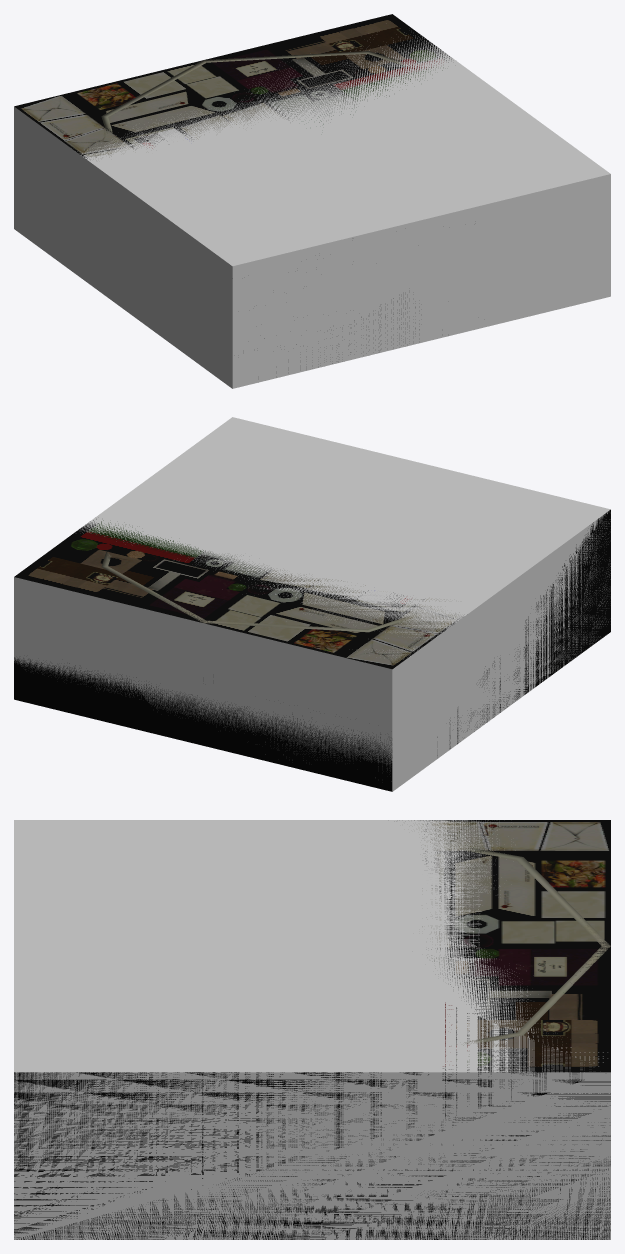
The model's file is bowl.DAE.
3 renders of one model, top to bottom at view 1: azimuth 30°, elevation 25°; view 2: azimuth 150°, elevation 25°; view 3: azimuth 270°, elevation 25°, orthographic. The views are drawn at different scales.
Parts seen in each view (by area): view 1: bounds, colbox-1, bowl_one100; view 2: bounds, colbox-1, bowl_one100; view 3: bounds, colbox-1, bowl_one100.
Part boxes in pixels (x1=…): bounds: x1=14, y1=32, x2=610, y2=388; colbox-1: x1=14, y1=14, x2=451, y2=363; bowl_one100: x1=101, y1=51, x2=405, y2=132; bounds: x1=14, y1=417, x2=610, y2=791; colbox-1: x1=14, y1=509, x2=610, y2=791; bowl_one100: x1=101, y1=548, x2=419, y2=632; bounds: x1=14, y1=820, x2=610, y2=1239; colbox-1: x1=14, y1=820, x2=610, y2=1239; bowl_one100: x1=456, y1=847, x2=610, y2=1045.
Bounding box in the file's own units: 46.22 × 46.22 × 14.31.
